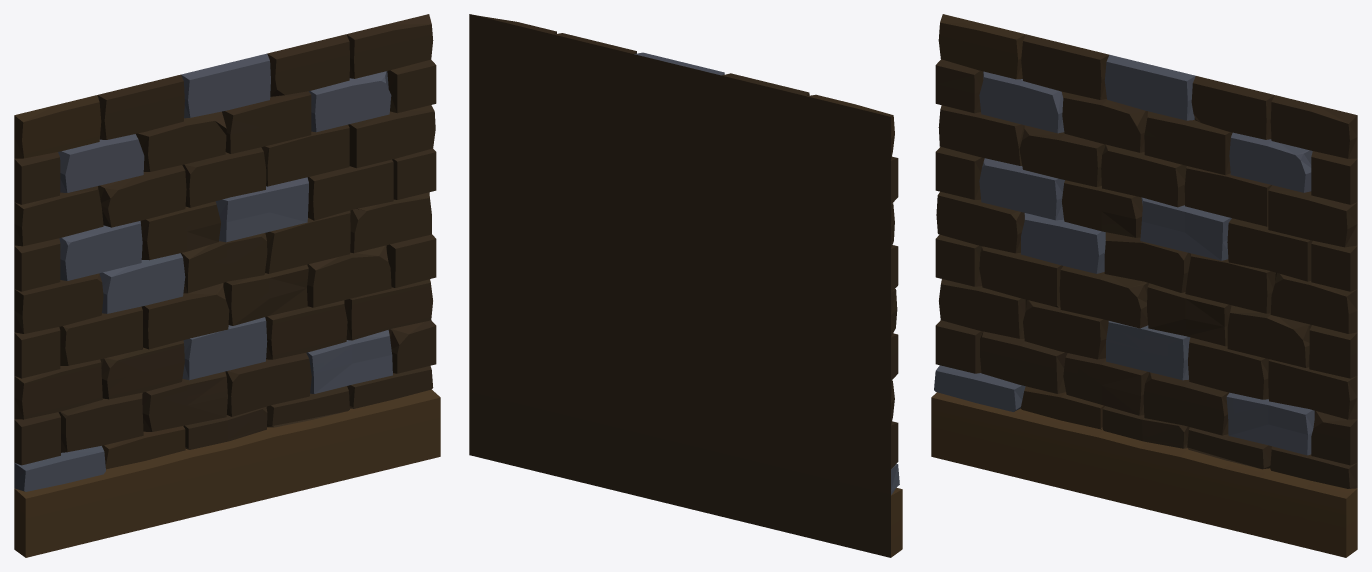
Rendered from Wall_27.fbx.
3 views of the same model, side by side, from view 1: azimuth 30°, elevation 25°; view 2: azimuth 150°, elevation 25°; view 3: azimuth 330°, elevation 25° (orthographic).
Visible parts, largest first — view 1: Wall_27; view 2: Wall_27; view 3: Wall_27.
Part boxes in pixels (<box>): Wall_27: <box>14,14,440,557</box>; Wall_27: <box>469,14,902,557</box>; Wall_27: <box>931,14,1357,557</box>.
Size of the model in its own units: 4 by 4 by 0.194.
